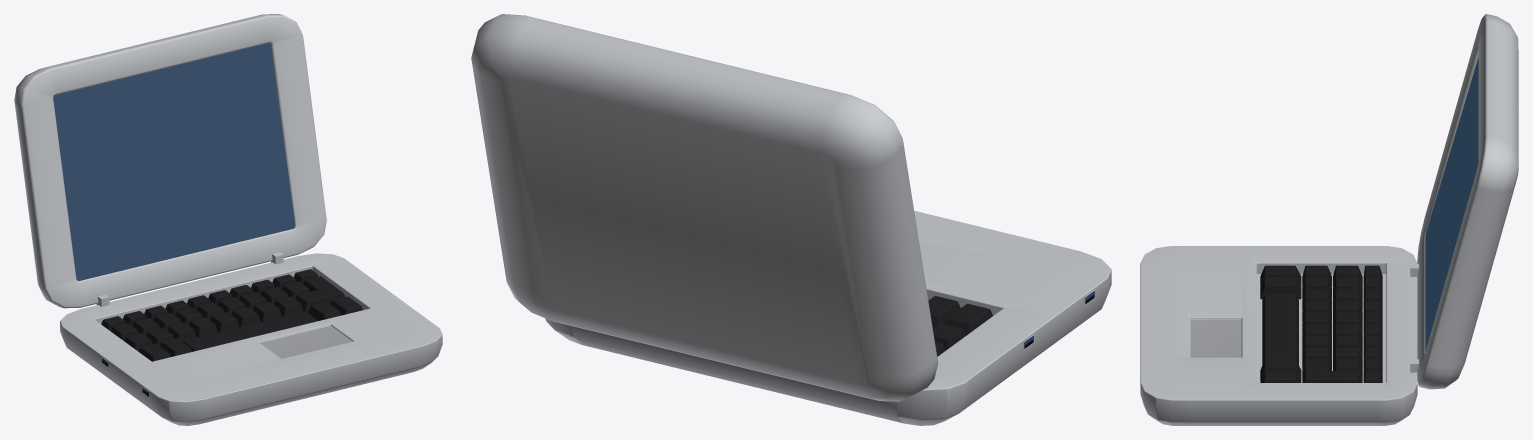
File: laptop.glb
3 views of the same model, side by side, from view 1: azimuth 30°, elevation 25°; view 2: azimuth 150°, elevation 25°; view 3: azimuth 270°, elevation 25° (orthographic). The views are drawn at different scales.
Visible parts, largest first — view 1: Laptop_screen, Laptop_base, Laptop_lid; view 2: Laptop_lid, Laptop_base; view 3: Laptop_base, Laptop_lid, Laptop_screen.
Part boxes in pixels (x1,y1,x2,y2): Laptop_screen: (53,43,295,280); Laptop_base: (60,253,442,425); Laptop_lid: (14,14,326,308); Laptop_lid: (471,14,938,401); Laptop_base: (545,211,1111,425); Laptop_base: (1140,246,1417,425); Laptop_lid: (1417,14,1518,389); Laptop_screen: (1425,57,1478,351).
Size of the model in its own units: 0.3205 by 0.2719 by 0.3312.
